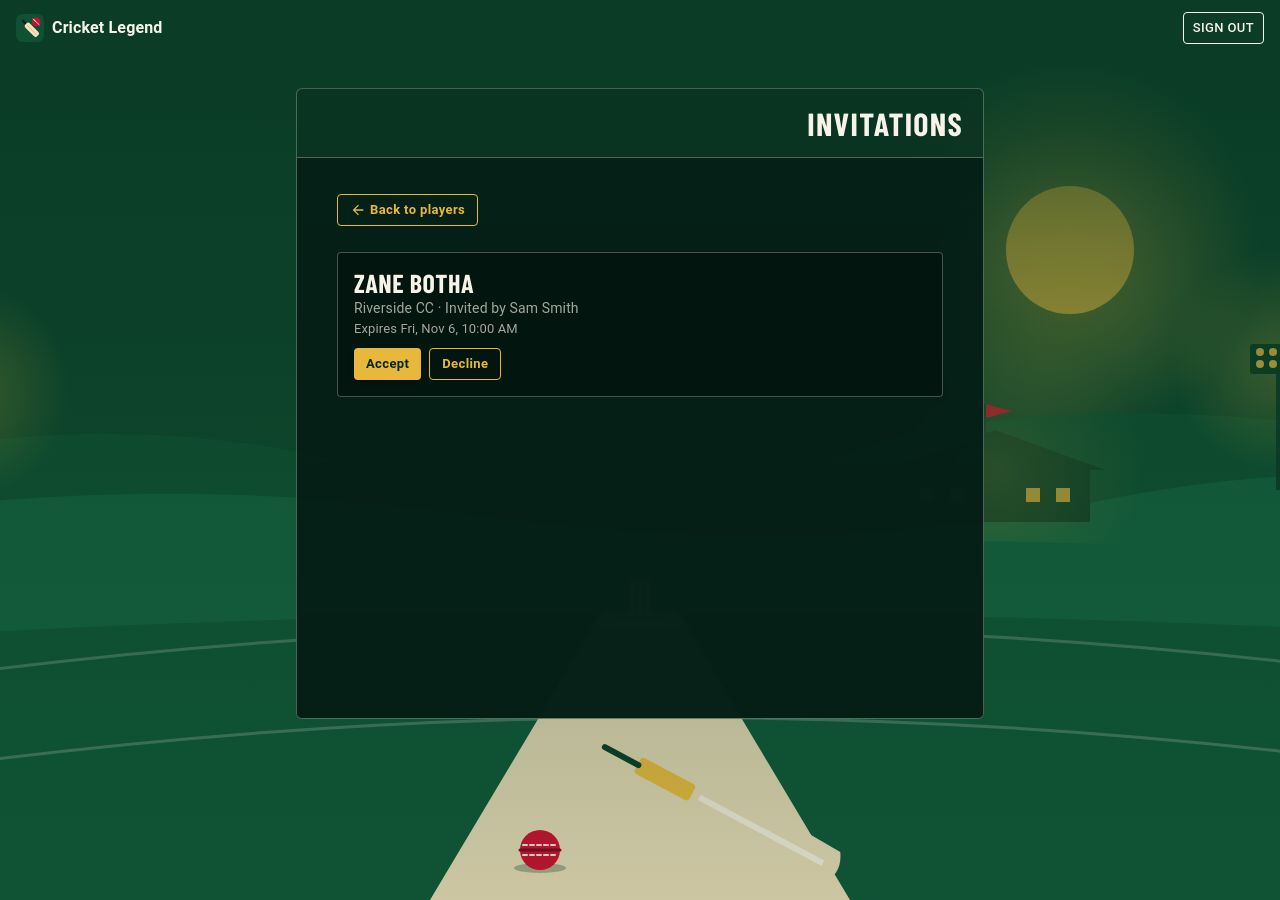
Test: MyInvitationsPage › explains a failure such as an expired invitation
The image size is (1280, 900).
Click the button "Accept": click(388, 364) x1=354 y1=348 x2=421 y2=380
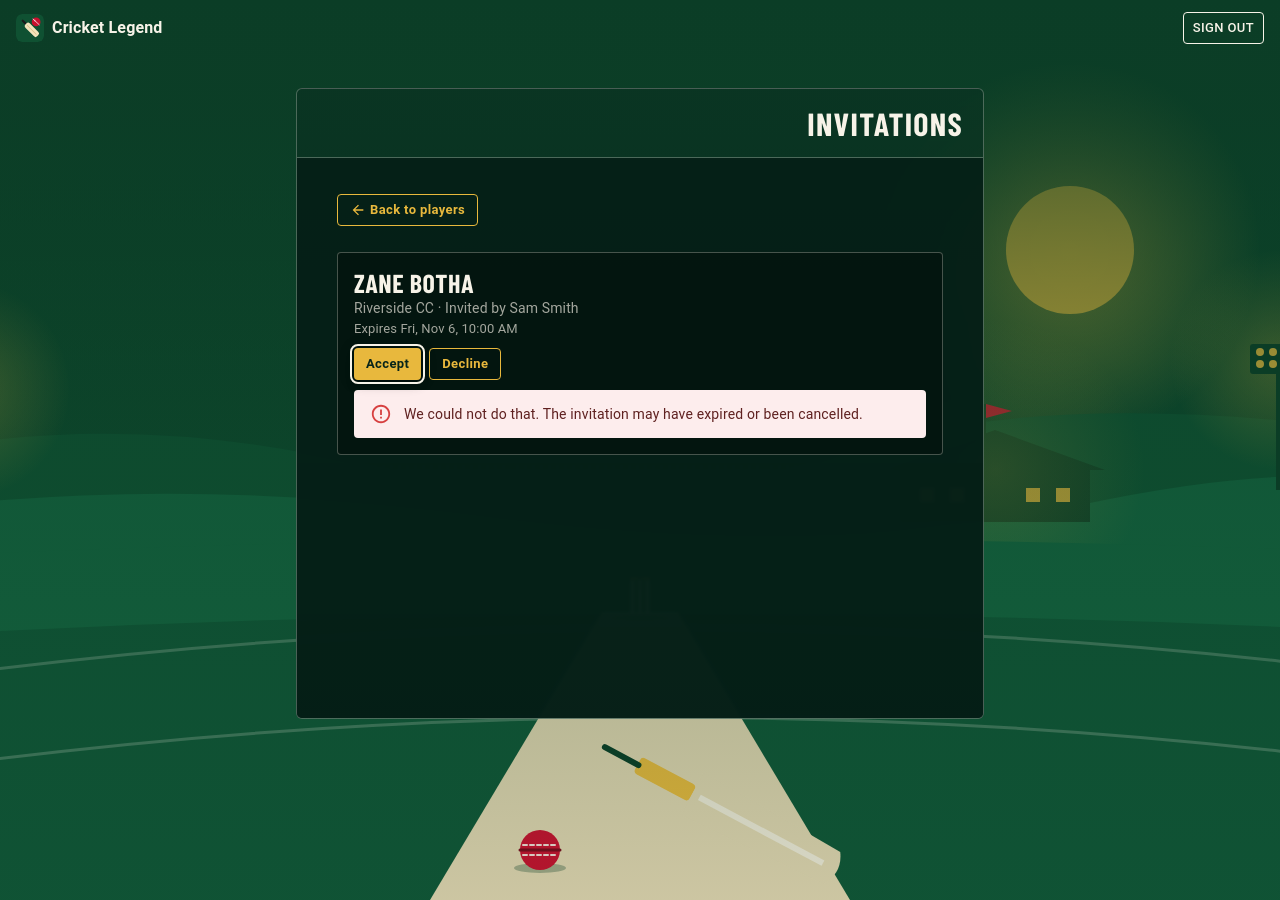
Now the text "We could not do that. The invitation may have expired or been cancelled." is shown, box x1=404 y1=406 x2=863 y2=422
